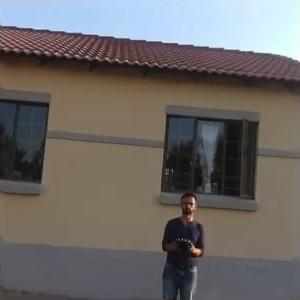follow: (154, 188, 208, 298)
